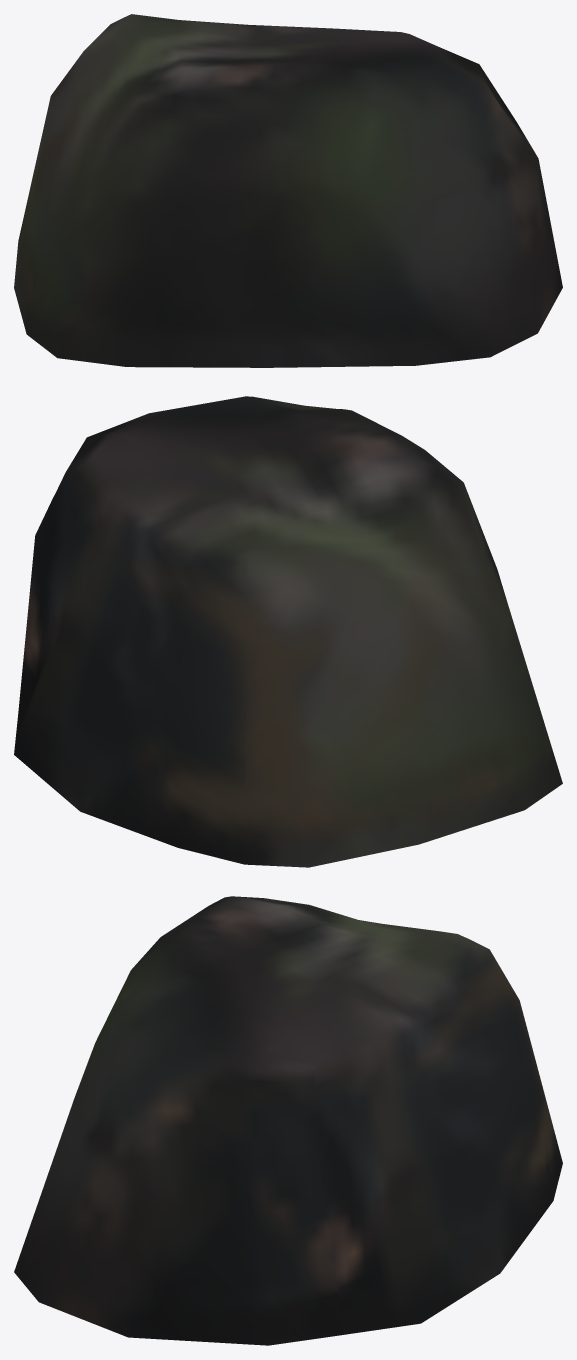
The model's file is Beach_RockPlatform_2.glb.
The picture shows the model from 3 angles, top to bottom: view 1: azimuth 30°, elevation 25°; view 2: azimuth 150°, elevation 25°; view 3: azimuth 270°, elevation 25°; orthographic projection. The views are drawn at different scales.
Parts seen in each view (by area): view 1: Object_2.015; view 2: Object_2.015; view 3: Object_2.015.
Part boxes in pixels (x1,y1,x2,y2): Object_2.015: [14, 14, 562, 367]; Object_2.015: [14, 396, 562, 867]; Object_2.015: [14, 896, 562, 1345].
Bounding box in the file's own units: 17.27 × 9.43 × 16.37.
1 material, 1 textured.
